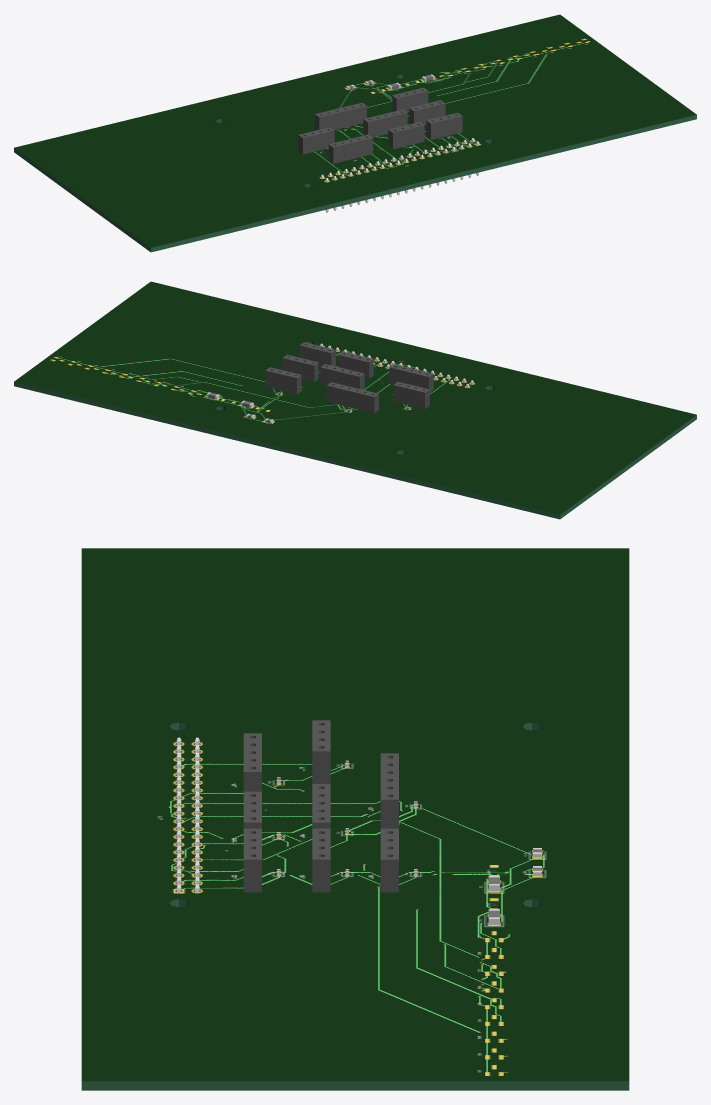
The model's file is t2-board.glb.
3 views of the same model, one above another, from view 1: azimuth 30°, elevation 25°; view 2: azimuth 150°, elevation 25°; view 3: azimuth 270°, elevation 25° (orthographic). The views are drawn at different scales.
Parts seen in each view (by area): view 1: Box0, J9, J4, J6, J1, J2, J3, J7, J5, J8; view 2: Box0, J9, J4, J6, J8, J7, J5, J3, J2; view 3: Box0, J1, J9, J5, J2, J8, J7, J4, J6.
Boxes of the visible parts, x1=… form: Box0: x1=14, y1=14, x2=696, y2=252; J9: x1=315, y1=102, x2=366, y2=130; J4: x1=328, y1=134, x2=372, y2=163; J6: x1=363, y1=109, x2=407, y2=137; J1: x1=321, y1=138, x2=479, y2=212; J2: x1=426, y1=112, x2=462, y2=139; J3: x1=388, y1=122, x2=424, y2=149; J7: x1=298, y1=127, x2=334, y2=154; J5: x1=409, y1=100, x2=445, y2=124; J8: x1=392, y1=87, x2=428, y2=112; Box0: x1=14, y1=281, x2=696, y2=519; J9: x1=326, y1=382, x2=378, y2=413; J4: x1=389, y1=364, x2=433, y2=392; J6: x1=320, y1=364, x2=364, y2=389; J8: x1=265, y1=367, x2=301, y2=394; J7: x1=393, y1=381, x2=429, y2=408; J5: x1=282, y1=354, x2=318, y2=381; J3: x1=337, y1=351, x2=373, y2=378; J2: x1=299, y1=342, x2=335, y2=366; Box0: x1=81, y1=548, x2=629, y2=1090; J1: x1=176, y1=737, x2=199, y2=892; J9: x1=380, y1=753, x2=398, y2=828; J5: x1=312, y1=828, x2=330, y2=892; J2: x1=243, y1=828, x2=261, y2=892; J8: x1=380, y1=828, x2=398, y2=892; J7: x1=312, y1=720, x2=330, y2=783; J4: x1=243, y1=733, x2=261, y2=791; J6: x1=312, y1=784, x2=330, y2=828.
Bounding box in the file's own units: 175 × 14.6 × 76.
8 materials, 2 textured.
